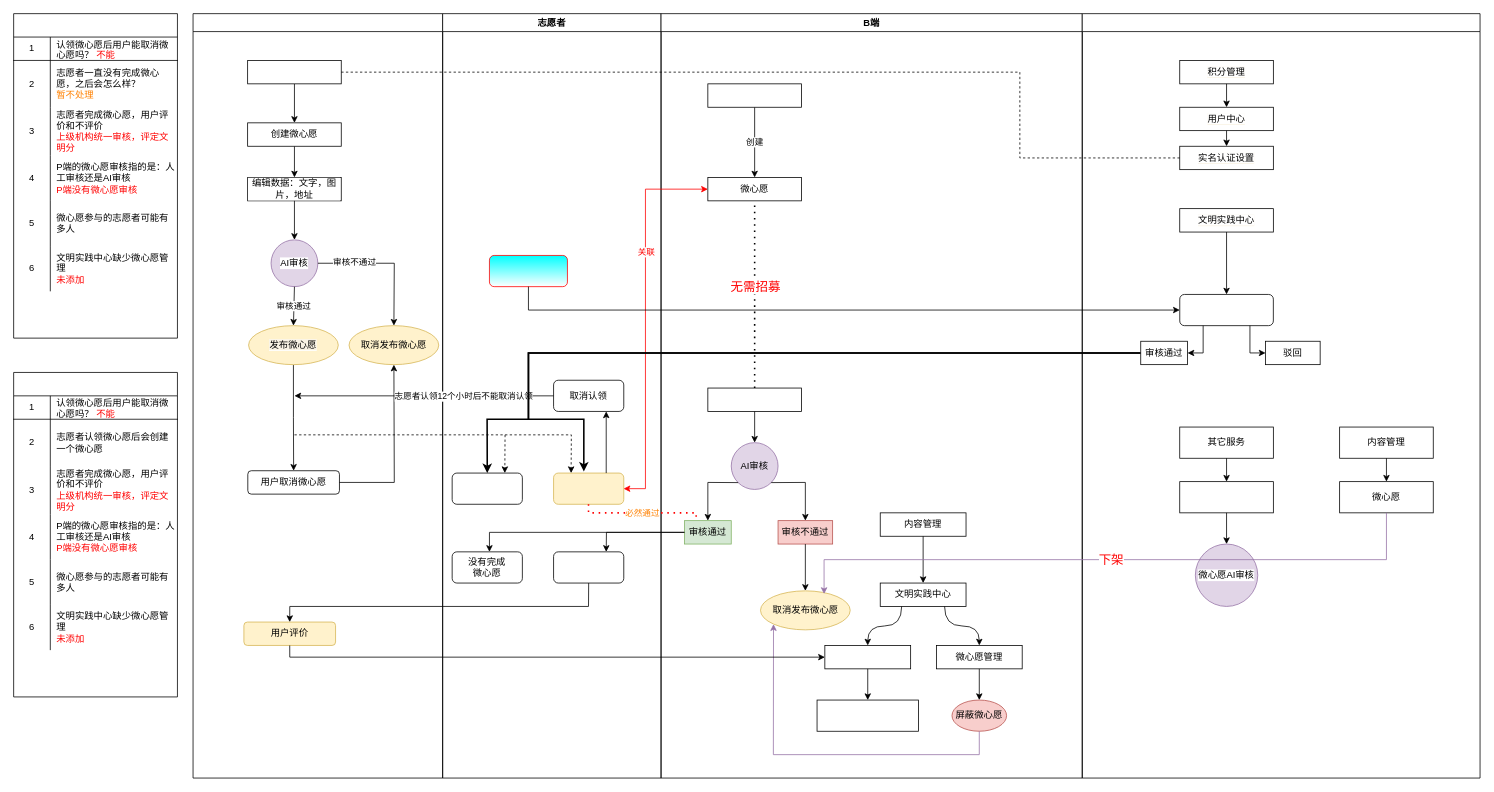
This 1494x792 diagram has some shape labels left out. The box of each missing label's shape, as (x1, y1, x2, y2) in pixels:
P端: (1081, 13, 1480, 778)
业务: (13, 372, 177, 697)
写/删除评论,点赞，拨打电话: (451, 472, 522, 504)
发布微心愿活动: (707, 387, 801, 411)
备注: (13, 13, 177, 338)
完成微心愿: (553, 551, 624, 583)
实名认证用户: (247, 60, 341, 84)
微心愿审核: (824, 645, 911, 669)
志愿者审核: (1179, 294, 1273, 326)
志愿者注册: (489, 255, 567, 287)
敏感词审核: (1179, 481, 1273, 513)
活动中心: (707, 83, 801, 107)
用户(微心愿发布者): (192, 13, 443, 778)
认领微心愿: (553, 472, 624, 504)
评文明时长和文明分: (816, 699, 918, 731)
